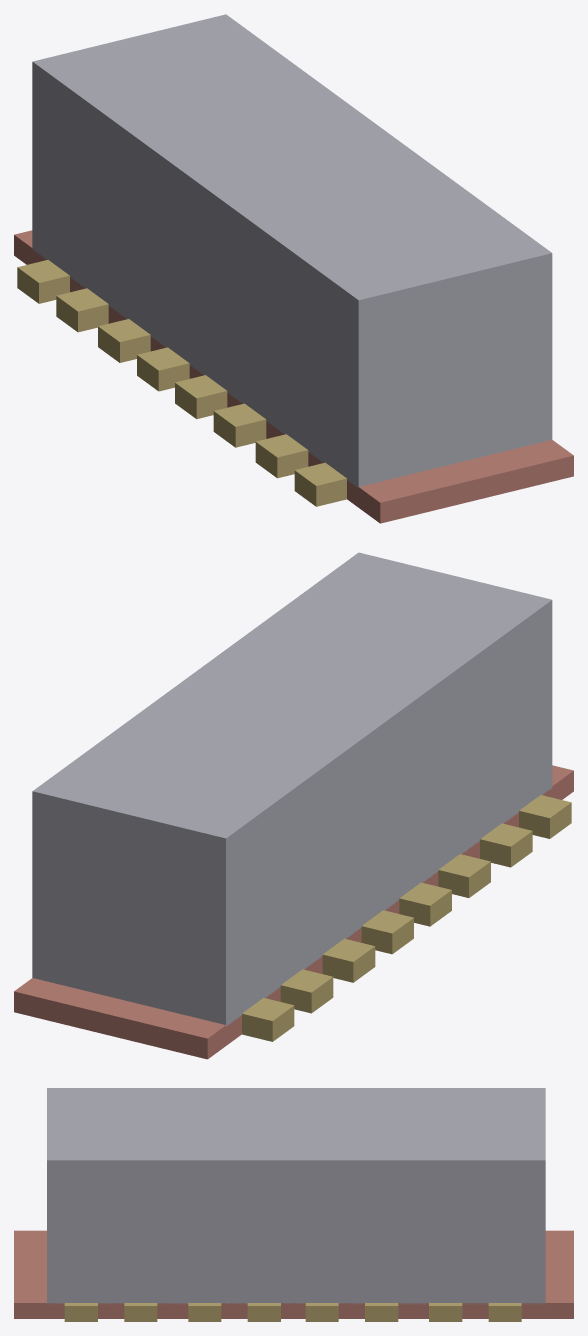
File: packaging.glb
The picture shows the model from 3 angles, top to bottom: view 1: azimuth 30°, elevation 25°; view 2: azimuth 150°, elevation 25°; view 3: azimuth 270°, elevation 25°; orthographic projection. The views are drawn at different scales.
Parts seen in each view (by area): view 1: Cube, Cube.002, Cube.005, Cube.001, Cube.006, Cube.003, Cube.007, Cube.004, Cube.008, Cube.009; view 2: Cube, Cube.002, Cube.008, Cube.007, Cube.003, Cube.006, Cube.001, Cube.005, Cube.009, Cube.004; view 3: Cube, Cube.002, Cube.001, Cube.003, Cube.004, Cube.005, Cube.006, Cube.007, Cube.008, Cube.009.
Boxes of the visible parts, x1=… form: Cube: x1=32, y1=14, x2=552, y2=488; Cube.002: x1=14, y1=230, x2=573, y2=523; Cube.005: x1=213, y1=403, x2=266, y2=447; Cube.001: x1=294, y1=462, x2=346, y2=506; Cube.006: x1=56, y1=288, x2=108, y2=332; Cube.003: x1=255, y1=434, x2=308, y2=478; Cube.007: x1=17, y1=260, x2=69, y2=303; Cube.004: x1=175, y1=375, x2=227, y2=419; Cube.008: x1=98, y1=319, x2=150, y2=362; Cube.009: x1=137, y1=347, x2=189, y2=391; Cube: x1=32, y1=552, x2=552, y2=1026; Cube.002: x1=14, y1=765, x2=573, y2=1059; Cube.008: x1=322, y1=938, x2=375, y2=982; Cube.007: x1=242, y1=998, x2=294, y2=1041; Cube.003: x1=480, y1=823, x2=532, y2=867; Cube.006: x1=280, y1=969, x2=333, y2=1013; Cube.001: x1=519, y1=795, x2=571, y2=838; Cube.005: x1=438, y1=854, x2=490, y2=897; Cube.009: x1=361, y1=910, x2=413, y2=954; Cube.004: x1=399, y1=882, x2=451, y2=926; Cube: x1=47, y1=1088, x2=545, y2=1304; Cube.002: x1=14, y1=1230, x2=573, y2=1318; Cube.001: x1=64, y1=1303, x2=97, y2=1321; Cube.003: x1=124, y1=1303, x2=157, y2=1321; Cube.004: x1=247, y1=1303, x2=280, y2=1321; Cube.005: x1=188, y1=1303, x2=221, y2=1321; Cube.006: x1=429, y1=1303, x2=462, y2=1321; Cube.007: x1=488, y1=1303, x2=521, y2=1321; Cube.008: x1=365, y1=1303, x2=398, y2=1321; Cube.009: x1=305, y1=1303, x2=338, y2=1321.
Bounding box in the file's own units: 2.4 × 2.05 × 6.55.
